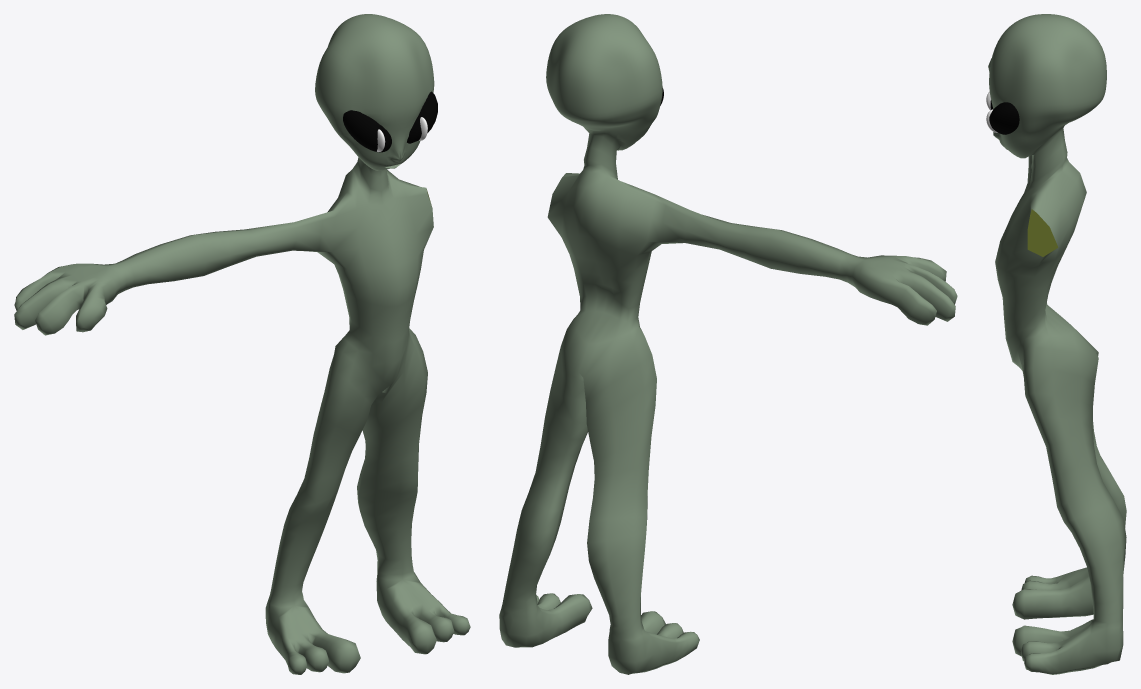
Rendered from GreenNoLeftArm.fbx.
3 renders of one model, left to right at view 1: azimuth 30°, elevation 25°; view 2: azimuth 150°, elevation 25°; view 3: azimuth 270°, elevation 25°, orthographic. The views are drawn at different scales.
Visible parts, largest first — view 1: polySurface2; view 2: polySurface2; view 3: polySurface2.
Part boxes in pixels (x1,y1,x2,y2): polySurface2: [14, 14, 470, 674]; polySurface2: [499, 14, 957, 674]; polySurface2: [986, 14, 1126, 674].
Bounding box in the file's own units: 157 × 213 × 43.57.
